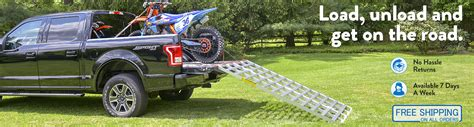Yard Ramp: (220, 60, 352, 124)
